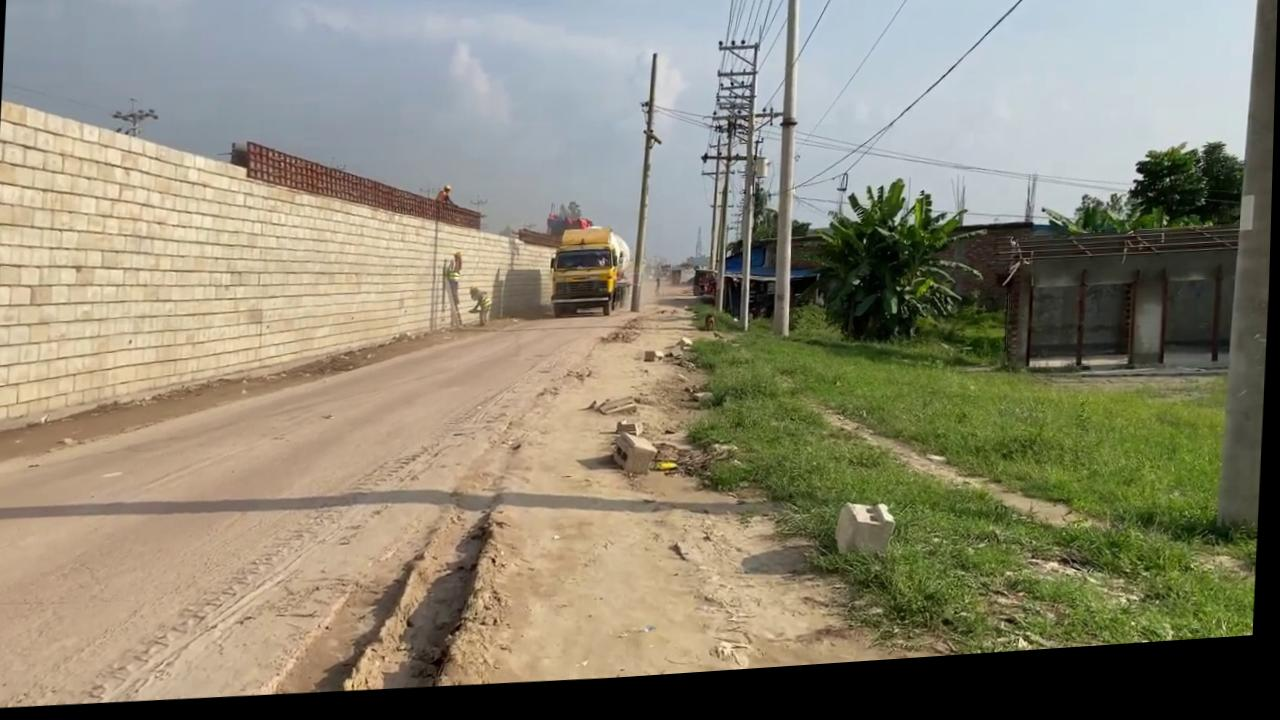Obstacle: (837, 511, 900, 572), (611, 437, 662, 486)
Pole: (1217, 0, 1280, 556), (770, 0, 807, 350), (632, 61, 659, 320)
Rickshaw: (369, 271, 971, 700)
Traffic-sign: (803, 183, 990, 360)
Tree: (549, 231, 634, 328), (547, 207, 595, 244)
Upstairs: (0, 69, 568, 444)
